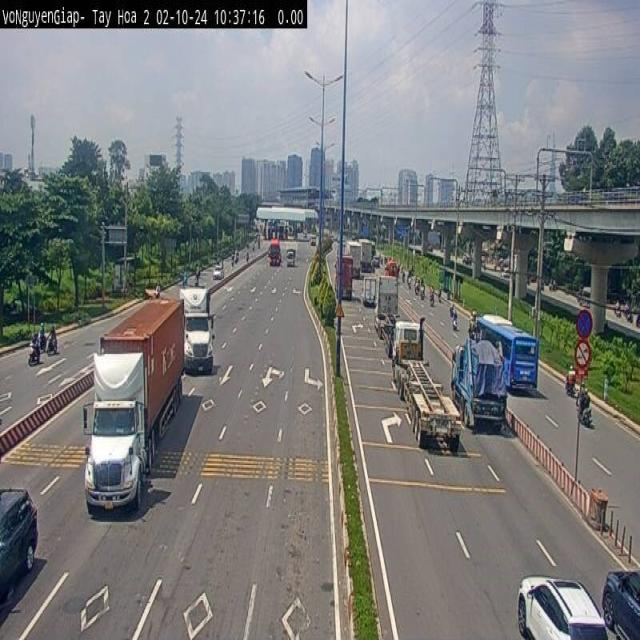bus: (256, 207, 318, 240)
car: (514, 560, 608, 640), (0, 486, 38, 602), (601, 568, 639, 638)
container-truck: (82, 294, 185, 514), (390, 313, 467, 463), (180, 284, 214, 374)
truck: (451, 335, 514, 431)
